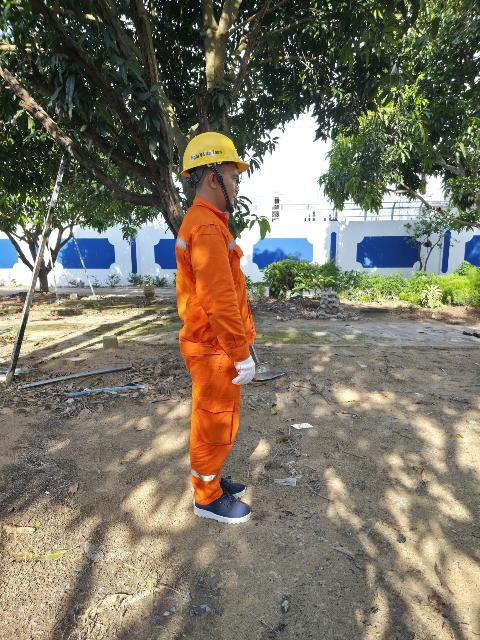gloves: (233, 357, 261, 390)
helmet: (162, 128, 268, 176)
shoes: (196, 487, 260, 530), (197, 470, 260, 498)
